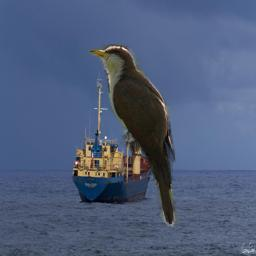Cuckoo: (88, 44, 180, 229)
